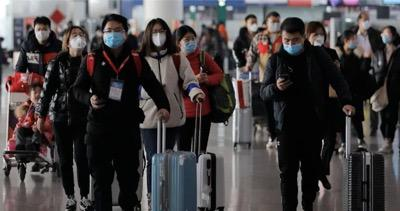with_mask: (102, 26, 124, 50), (68, 31, 87, 52), (282, 37, 303, 55), (182, 35, 198, 54), (151, 28, 166, 48), (311, 32, 325, 47), (34, 27, 49, 41), (269, 18, 281, 34), (381, 31, 391, 45), (347, 38, 358, 50), (361, 18, 371, 30), (248, 20, 258, 32)
without_mask: (30, 89, 42, 105)
